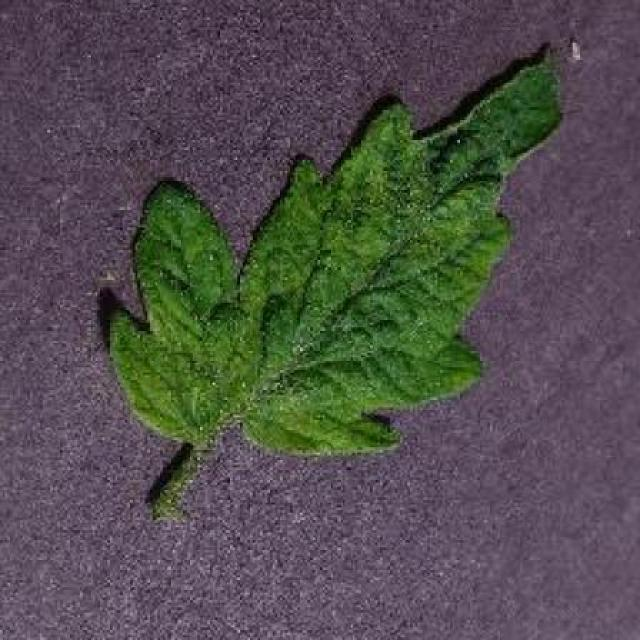Mosaic Virus: (105, 44, 566, 459)
